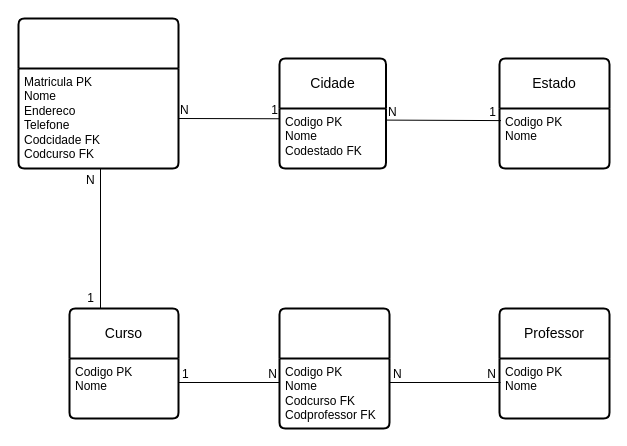
This 627x446 diagram has some shape labels left out. Each missing label, with the box of its shape:
Aluno: (17, 17, 179, 169)
Disciplina: (278, 307, 390, 429)
